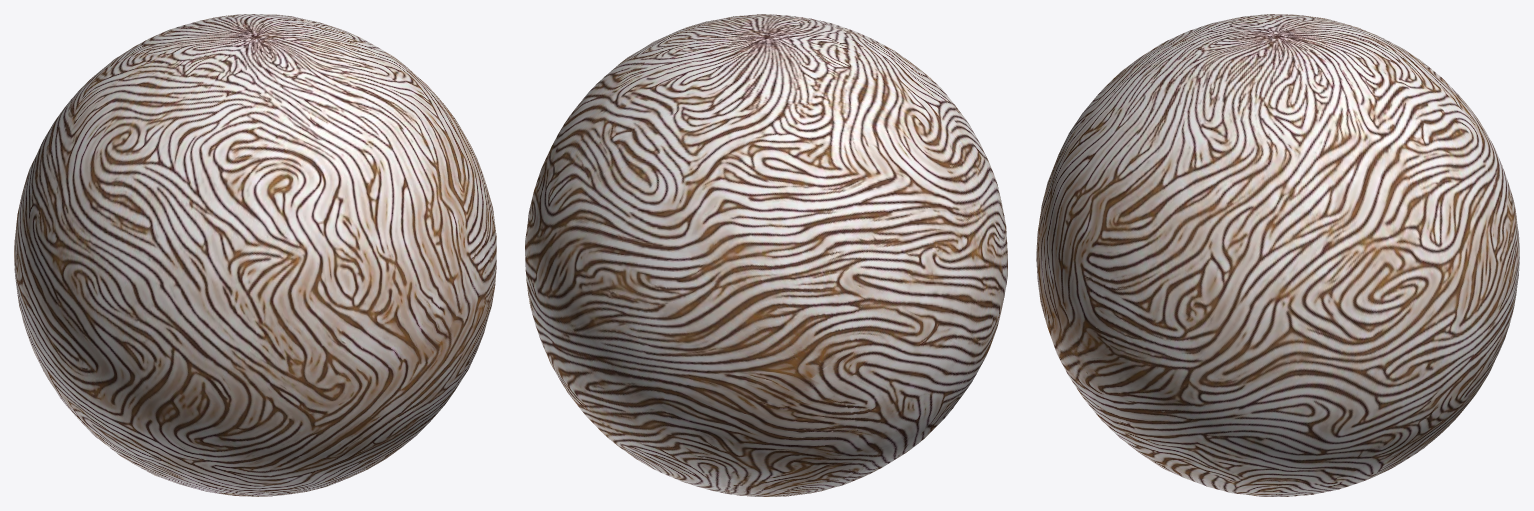
The model's file is abstract_shape.glb.
The picture shows the model from 3 angles, left to right: view 1: azimuth 30°, elevation 25°; view 2: azimuth 150°, elevation 25°; view 3: azimuth 270°, elevation 25°; orthographic projection.
Parts seen in each view (by area): view 1: Object_2; view 2: Object_2; view 3: Object_2.
Boxes of the visible parts, x1=… form: Object_2: x1=14, y1=14, x2=496, y2=496; Object_2: x1=525, y1=14, x2=1007, y2=496; Object_2: x1=1036, y1=14, x2=1519, y2=496.
Size of the model in its own units: 2.04 by 2.04 by 2.04.
1 material, 1 textured.
